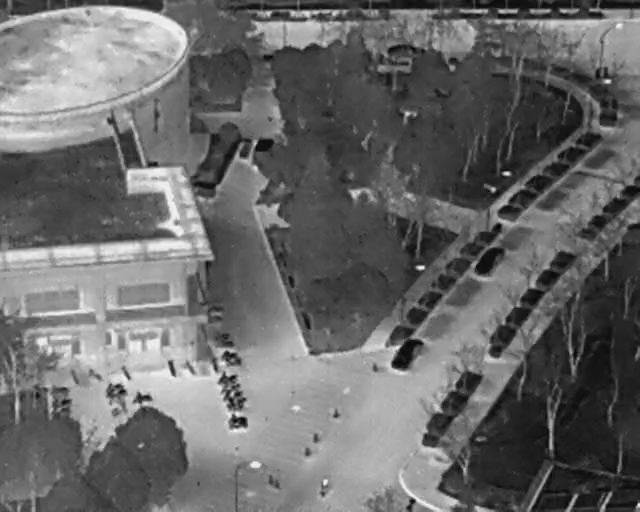Bicycle: (103, 386, 130, 407), (130, 386, 155, 407), (47, 403, 74, 422), (107, 399, 131, 420), (101, 378, 125, 396), (163, 356, 180, 380), (181, 356, 199, 378), (218, 371, 240, 387), (316, 476, 331, 499), (85, 366, 105, 383), (50, 382, 72, 397), (118, 363, 134, 382), (224, 389, 244, 404), (49, 397, 73, 409), (221, 381, 241, 395), (68, 368, 82, 387), (225, 403, 245, 413), (228, 422, 249, 431), (207, 304, 226, 313), (225, 398, 248, 405), (228, 415, 249, 422), (208, 313, 222, 323), (217, 371, 226, 384)
Car: (386, 330, 427, 378), (469, 238, 508, 283)
OtherVehicle: (246, 132, 277, 170)
